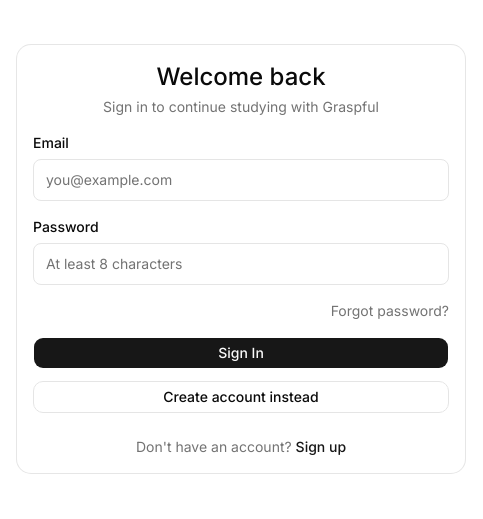
Test: AuthForm › shows an inline error instead of submitting when credentials are missing
Click the button "Sign In". click: (241, 352)
box: [33, 336, 449, 368]
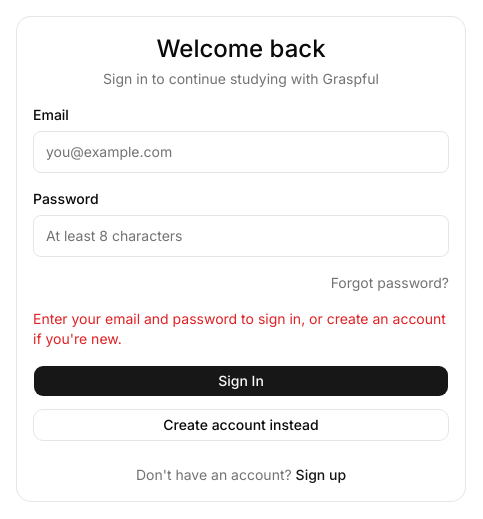
Check: the text "Enter your email and password to sign in, or create an account if you're new." is shown, box [33, 308, 449, 348]
